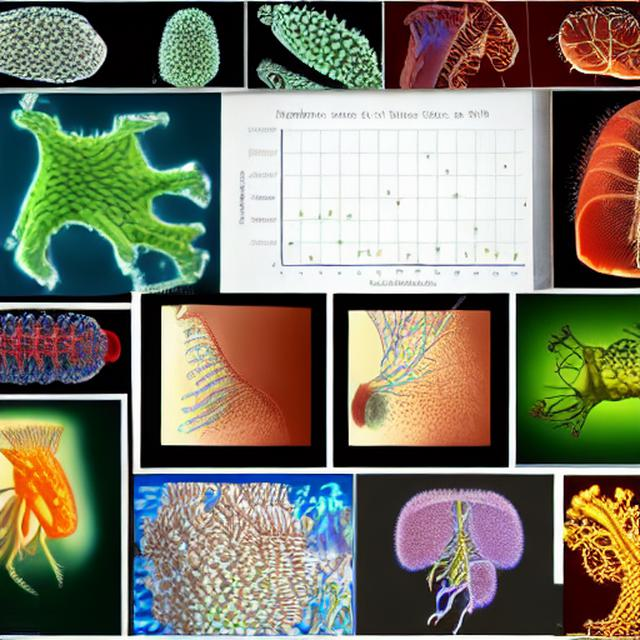Graph: (234, 106, 532, 292)
